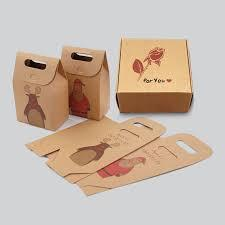box: (115, 38, 194, 114)
